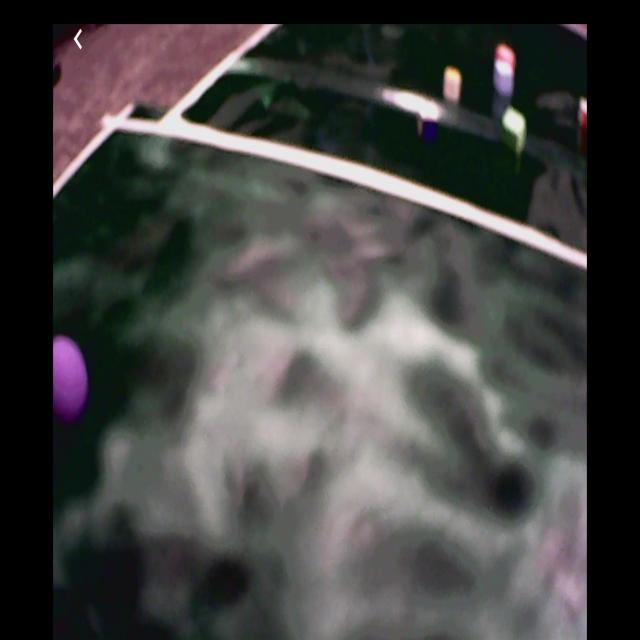ball: (54, 337, 89, 420)
